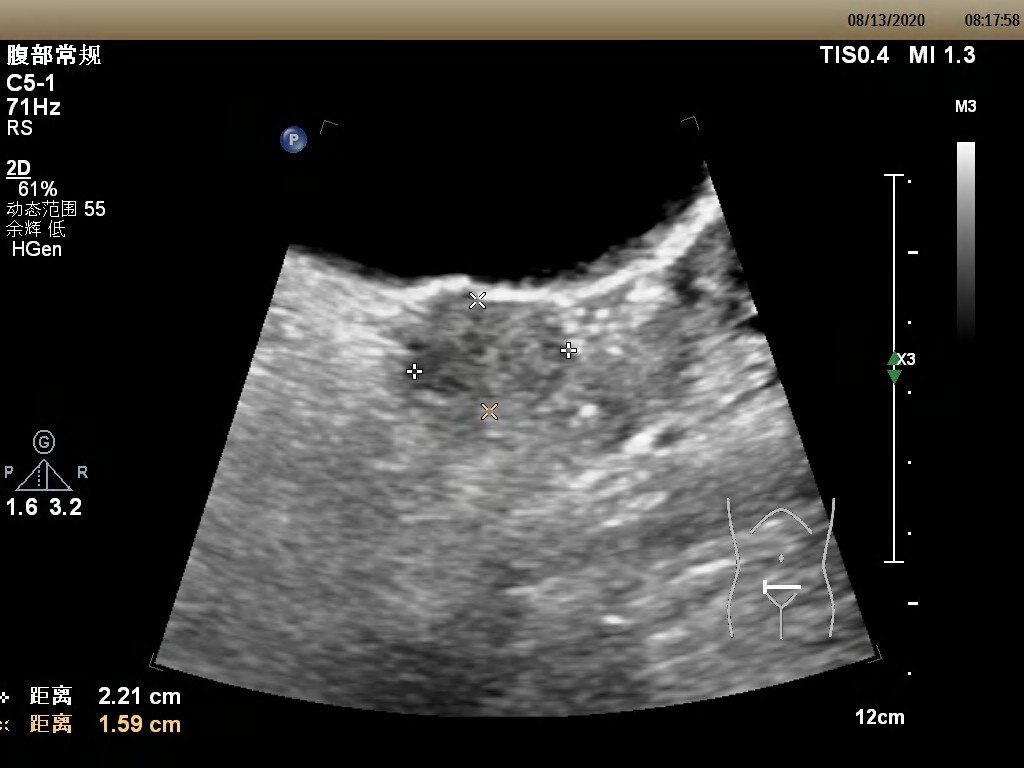肌瘤: (399, 297, 572, 402)
